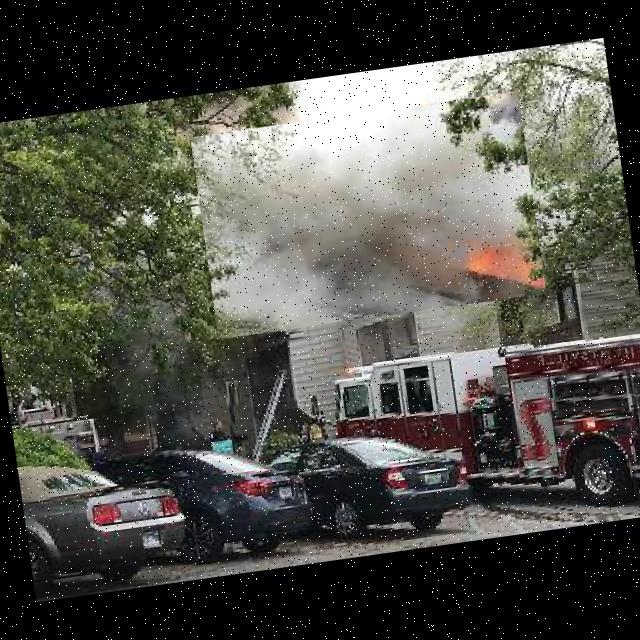fire: (190, 91, 546, 339)
